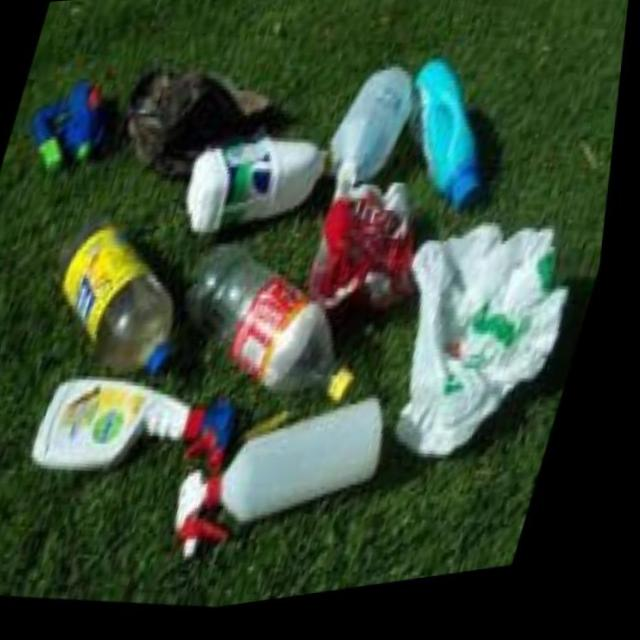leaf: (166, 372, 415, 602), (166, 230, 408, 450), (19, 193, 226, 402), (23, 357, 256, 506), (167, 113, 349, 271), (376, 53, 531, 224), (312, 62, 428, 225), (10, 55, 135, 193)
metal: (355, 206, 603, 505), (109, 40, 292, 211), (297, 160, 444, 341)
